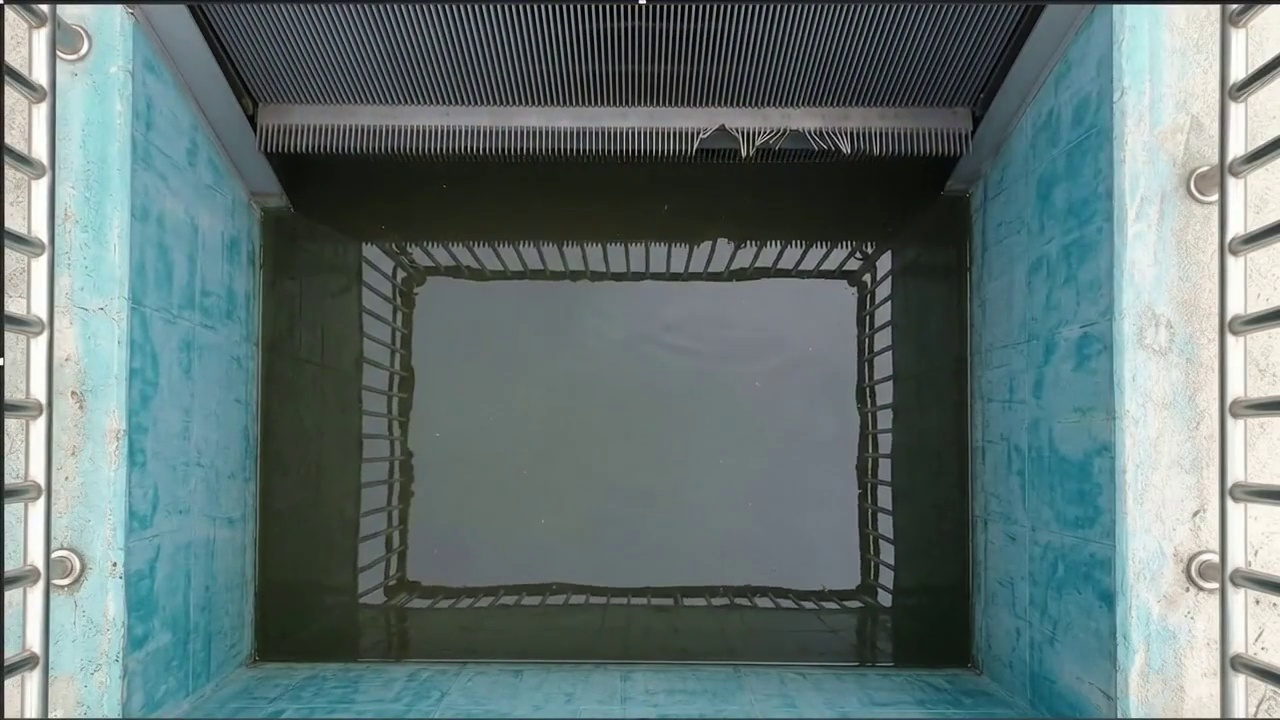damage: (689, 117, 860, 164)
